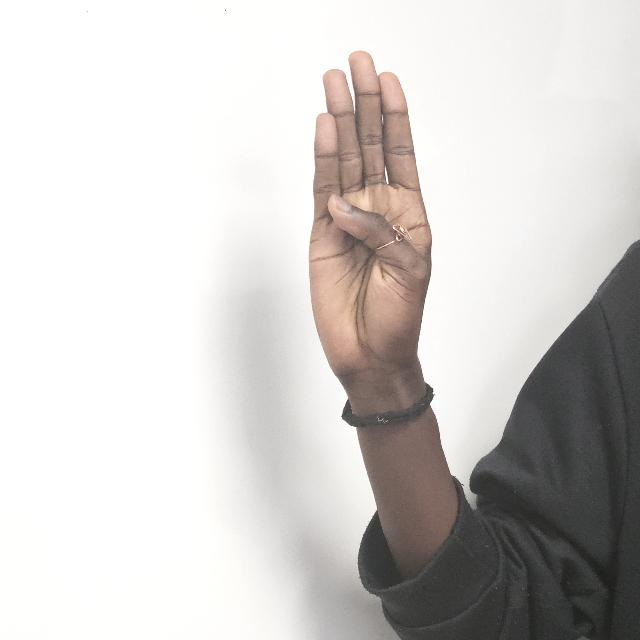Baixo: (303, 49, 432, 432)
